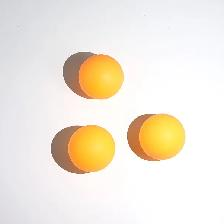YellowBall: (67, 124, 115, 172), (138, 114, 184, 160), (77, 54, 123, 99)
